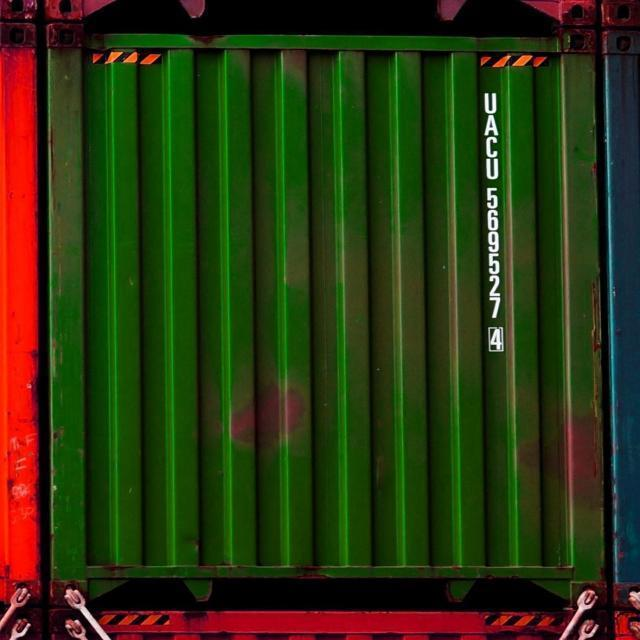container_number: (481, 84, 504, 356)
